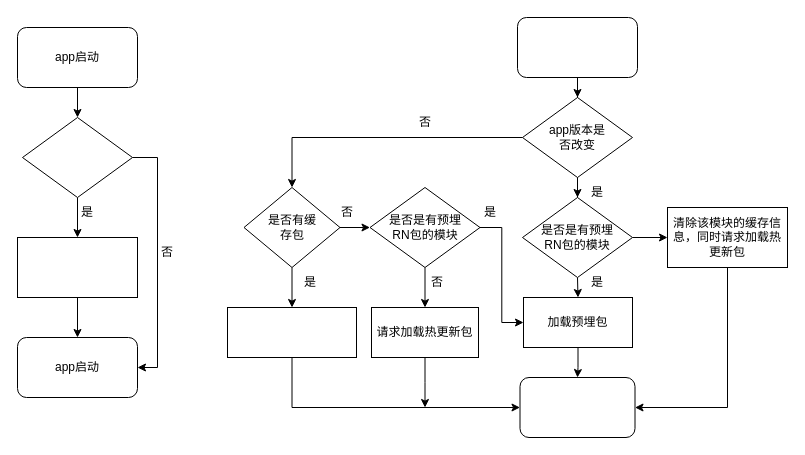
The diagram is 805 pixels wide and 455 high, and some of its shapes have lost their labels. Each missing label, with the centre of its shape:
加载缓存包: the point at 291,332
打开RN模块: the point at 577,47
持久化缓存新版本标识，同时全局缓存版本改变状态: the point at 77,267
版本是否改变: the point at 77,157
进入RN页面: the point at 577,407
